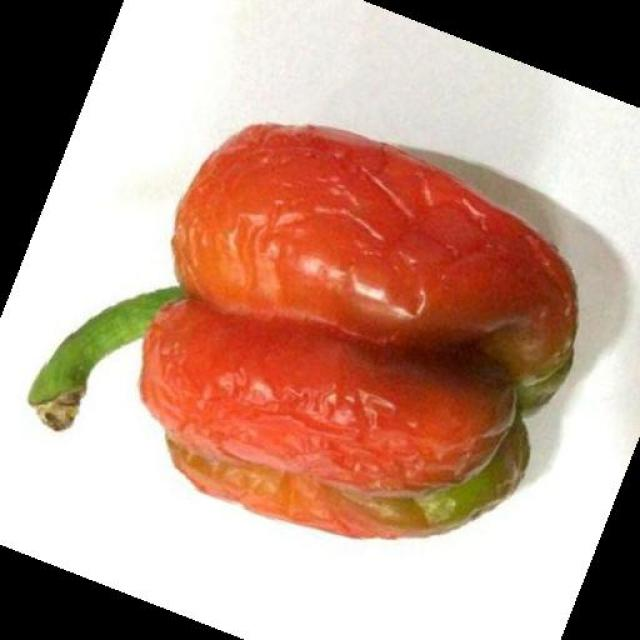Stale_Capsicum: (130, 113, 500, 518)
